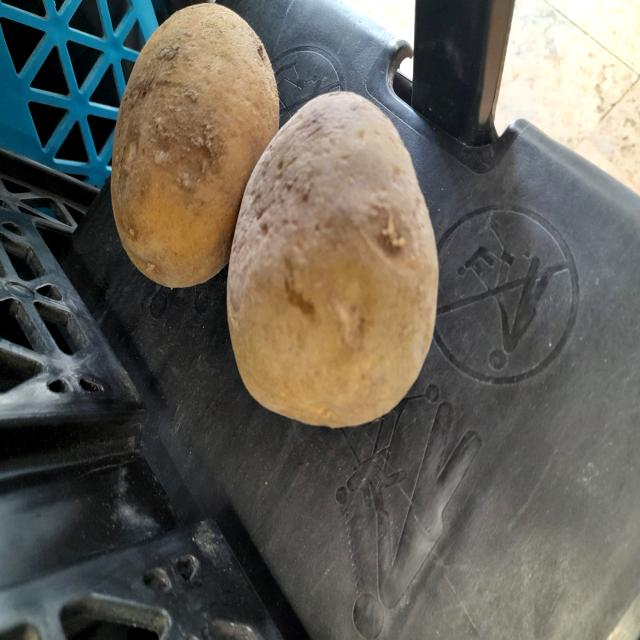potato: (220, 87, 445, 440), (105, 3, 291, 298)
